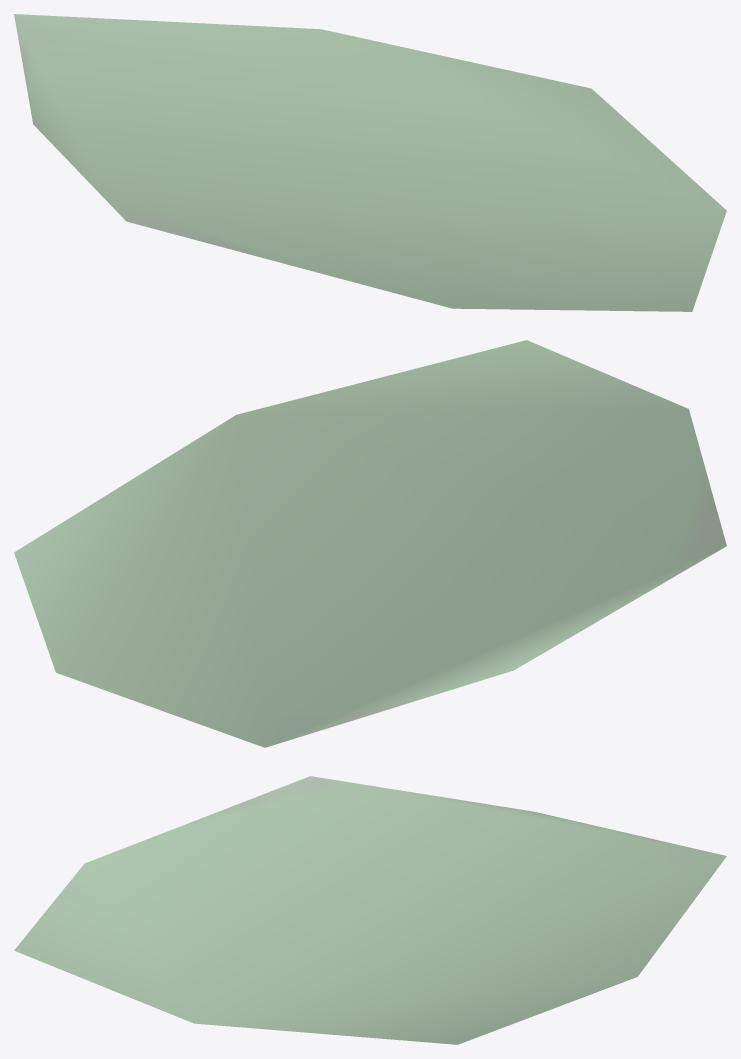
File: TROLLHOLE02_HOLECAP106.fbx
3 renders of one model, top to bottom at view 1: azimuth 30°, elevation 25°; view 2: azimuth 150°, elevation 25°; view 3: azimuth 270°, elevation 25°, orthographic. The views are drawn at different scales.
Visible parts, largest first — view 1: TROLLHOLE02_HOLECAP106; view 2: TROLLHOLE02_HOLECAP106; view 3: TROLLHOLE02_HOLECAP106.
Part boxes in pixels (x1,y1,x2,y2): TROLLHOLE02_HOLECAP106: (14,14,726,311); TROLLHOLE02_HOLECAP106: (14,340,726,747); TROLLHOLE02_HOLECAP106: (14,776,726,1044).
Size of the model in its own units: 17218 by 2147 by 24462.
Materials: 1 (1 with a texture image).
